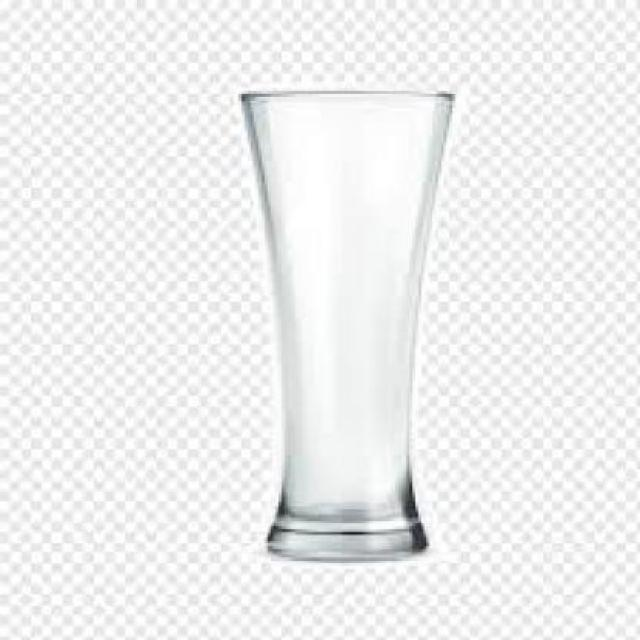kaca: (237, 90, 449, 558)
